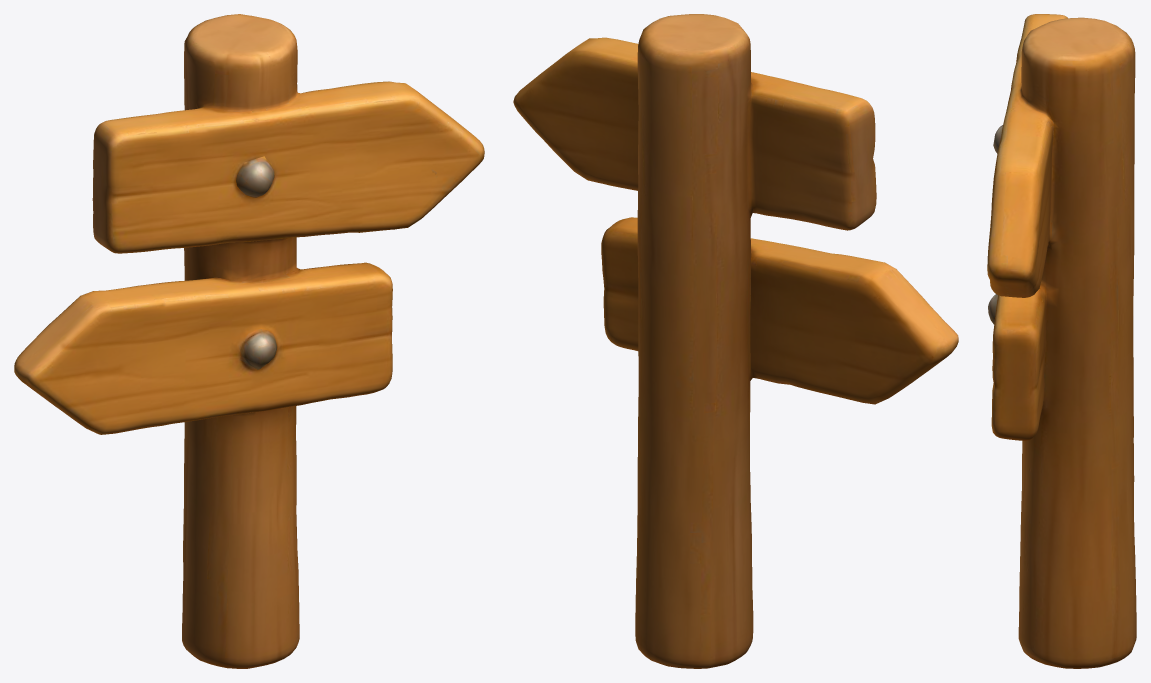
The model's file is signpost.glb.
3 views of the same model, side by side, from view 1: azimuth 30°, elevation 25°; view 2: azimuth 150°, elevation 25°; view 3: azimuth 270°, elevation 25° (orthographic).
Parts seen in each view (by area): view 1: tripo_node_75b761e3-df05-43e6-a43d-0bc8f2950e93; view 2: tripo_node_75b761e3-df05-43e6-a43d-0bc8f2950e93; view 3: tripo_node_75b761e3-df05-43e6-a43d-0bc8f2950e93.
Part boxes in pixels (x1,y1,x2,y2): tripo_node_75b761e3-df05-43e6-a43d-0bc8f2950e93: [14, 14, 484, 668]; tripo_node_75b761e3-df05-43e6-a43d-0bc8f2950e93: [513, 14, 958, 668]; tripo_node_75b761e3-df05-43e6-a43d-0bc8f2950e93: [987, 14, 1136, 668].
Size of the model in its own units: 0.7597 by 0.9993 by 0.2213.
Materials: 1 (1 with a texture image).
